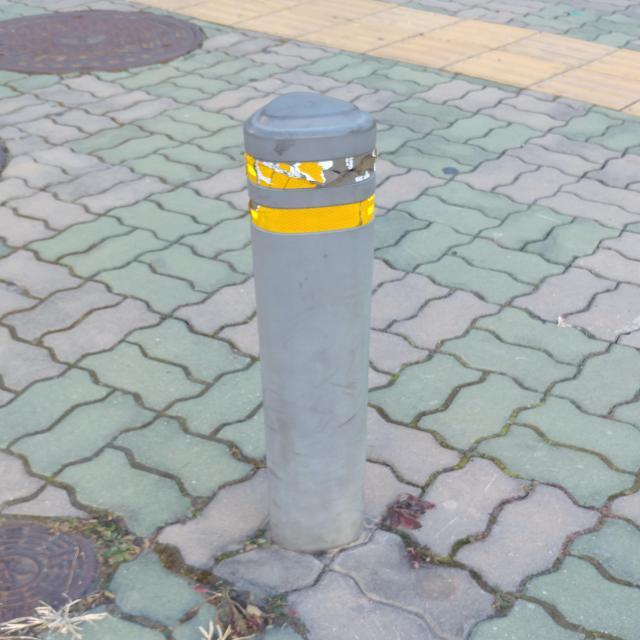pole: (246, 85, 382, 560)
